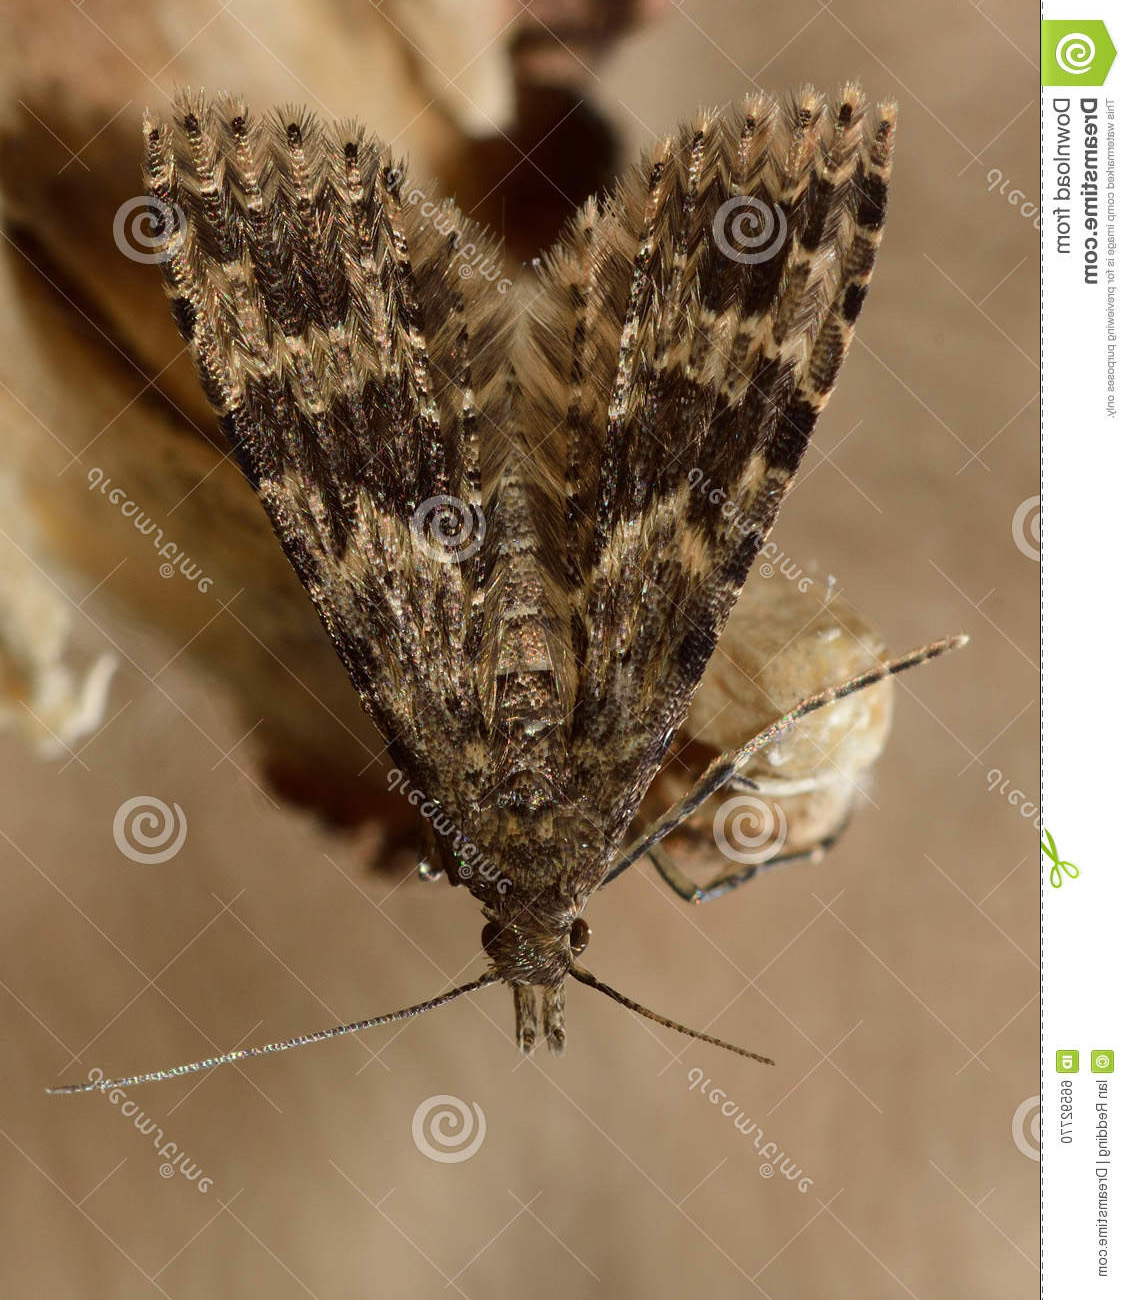Alucitidae: (46, 78, 967, 1098)
moth: (48, 81, 969, 1100)
